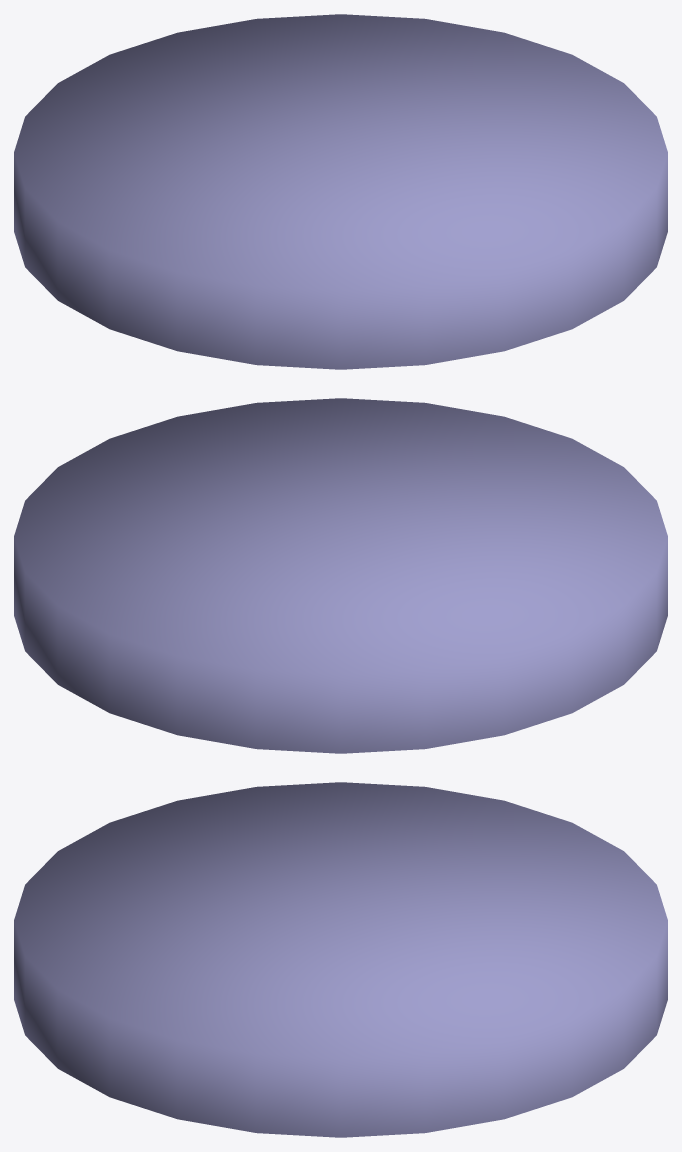
File: pipegame2.fbx
3 renders of one model, top to bottom at view 1: azimuth 30°, elevation 25°; view 2: azimuth 150°, elevation 25°; view 3: azimuth 270°, elevation 25°, orthographic.
Visible parts, largest first — view 1: 2_low; view 2: 2_low; view 3: 2_low.
Boxes of the visible parts, x1,y1,x2,y2 form: 2_low: [14, 14, 667, 369]; 2_low: [14, 398, 667, 753]; 2_low: [14, 782, 667, 1137].
Size of the model in its own units: 88 by 88 by 11.77.
